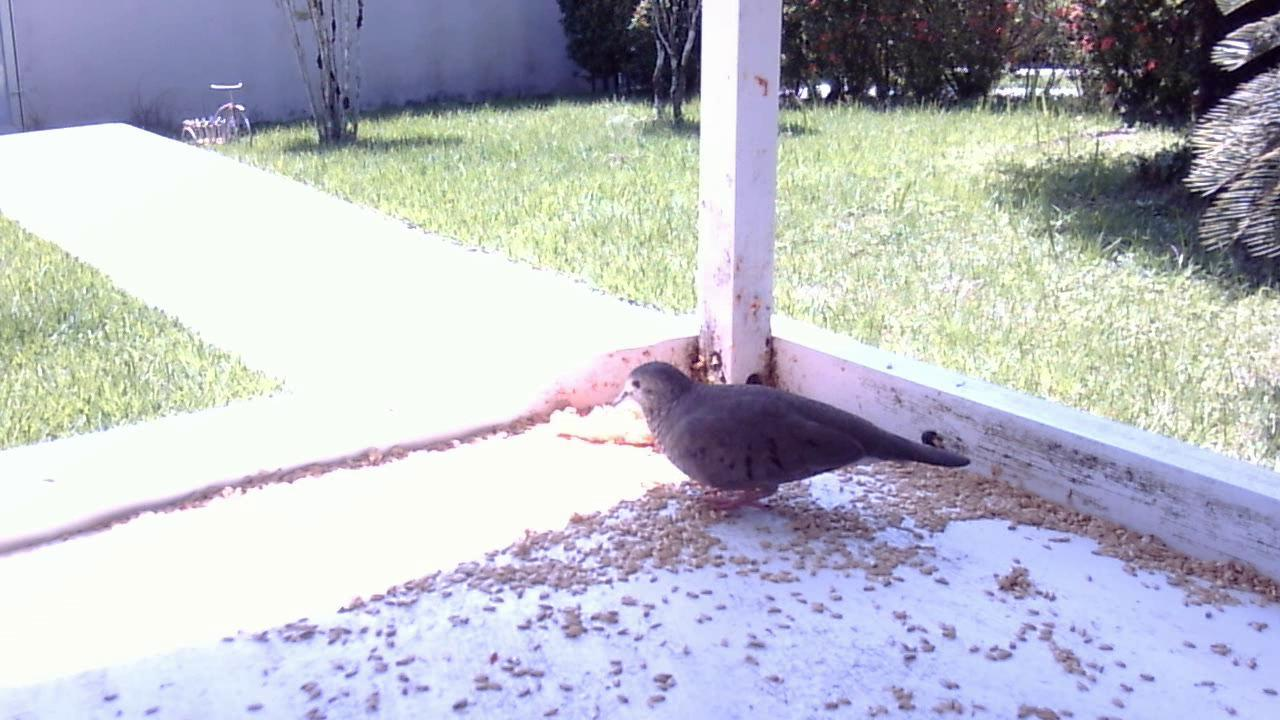rolinha: (617, 354, 975, 524)
